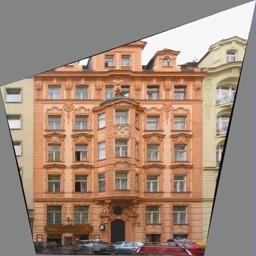building: (32, 48, 202, 242)
